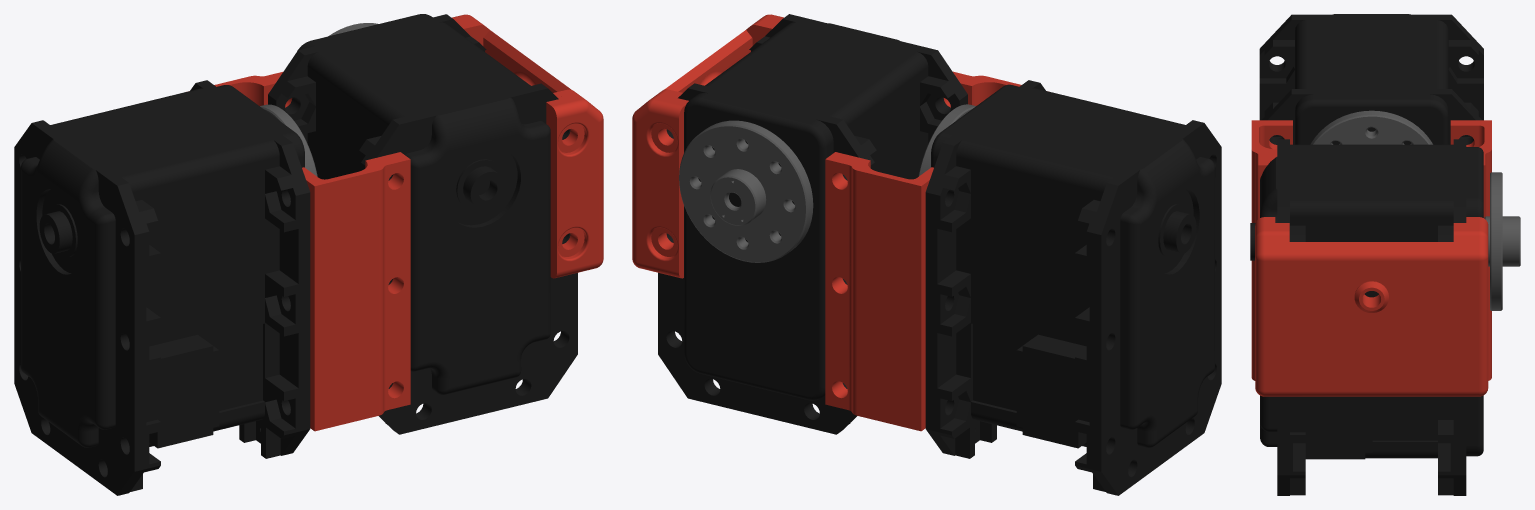
Rendered from left_hip_front.dae.
3 views of the same model, side by side, from view 1: azimuth 30°, elevation 25°; view 2: azimuth 150°, elevation 25°; view 3: azimuth 270°, elevation 25° (orthographic). The views are drawn at different scales.
Visible parts, largest first — view 1: Body1_Paint_-_Metallic_(Black) (×2), Body1_Paint_-_Metallic_(Red) (×3), Body1_Paint_-_Metallic_(Dark_Grey); view 2: Body1_Paint_-_Metallic_(Black) (×2), Body1_Paint_-_Metallic_(Red) (×3), Body1_Paint_-_Metallic_(Dark_Grey) (×2); view 3: Body1_Paint_-_Metallic_(Black) (×2), Body1_Paint_-_Metallic_(Red) (×3), Body1_Paint_-_Metallic_(Dark_Grey) (×2).
Boxes of the visible parts, box(x1,y1,x2,y2) form: Body1_Paint_-_Metallic_(Black) (×2): box(14, 14, 577, 495); Body1_Paint_-_Metallic_(Red) (×3): box(186, 14, 603, 431); Body1_Paint_-_Metallic_(Dark_Grey): box(260, 104, 317, 176); Body1_Paint_-_Metallic_(Black) (×2): box(658, 14, 1221, 495); Body1_Paint_-_Metallic_(Red) (×3): box(632, 14, 1021, 431); Body1_Paint_-_Metallic_(Dark_Grey) (×2): box(679, 104, 975, 262); Body1_Paint_-_Metallic_(Black) (×2): box(1250, 14, 1483, 495); Body1_Paint_-_Metallic_(Red) (×3): box(1251, 120, 1491, 396); Body1_Paint_-_Metallic_(Dark_Grey) (×2): box(1310, 110, 1520, 310).
Size of the model in its own units: 0.0854 by 0.0428 by 0.0506.
